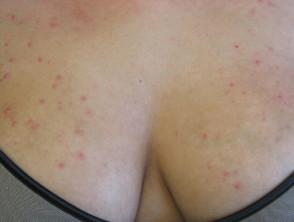Eczema: (48, 122, 94, 173), (1, 87, 45, 136), (201, 157, 256, 195), (231, 41, 280, 71), (44, 13, 89, 37), (1, 35, 34, 66), (270, 78, 294, 115), (76, 92, 102, 121), (247, 1, 286, 20), (45, 68, 72, 94), (2, 9, 33, 29), (219, 76, 242, 97), (196, 128, 214, 142)
